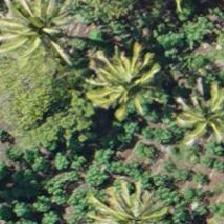coconut_tree: (85, 35, 175, 125), (2, 0, 92, 73), (160, 66, 223, 156), (83, 170, 173, 223)
